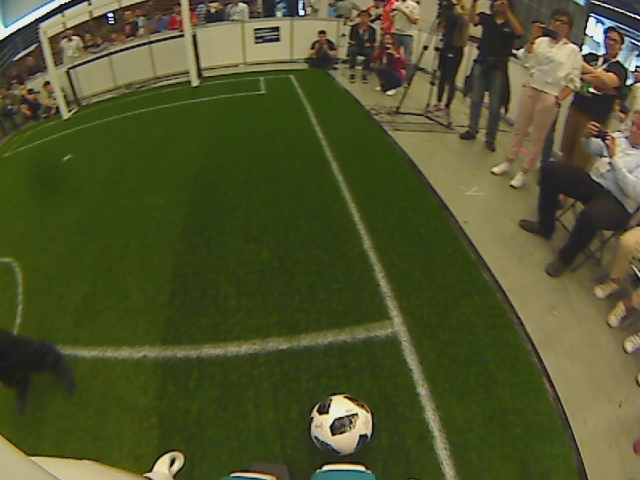ball: (305, 392, 374, 461)
